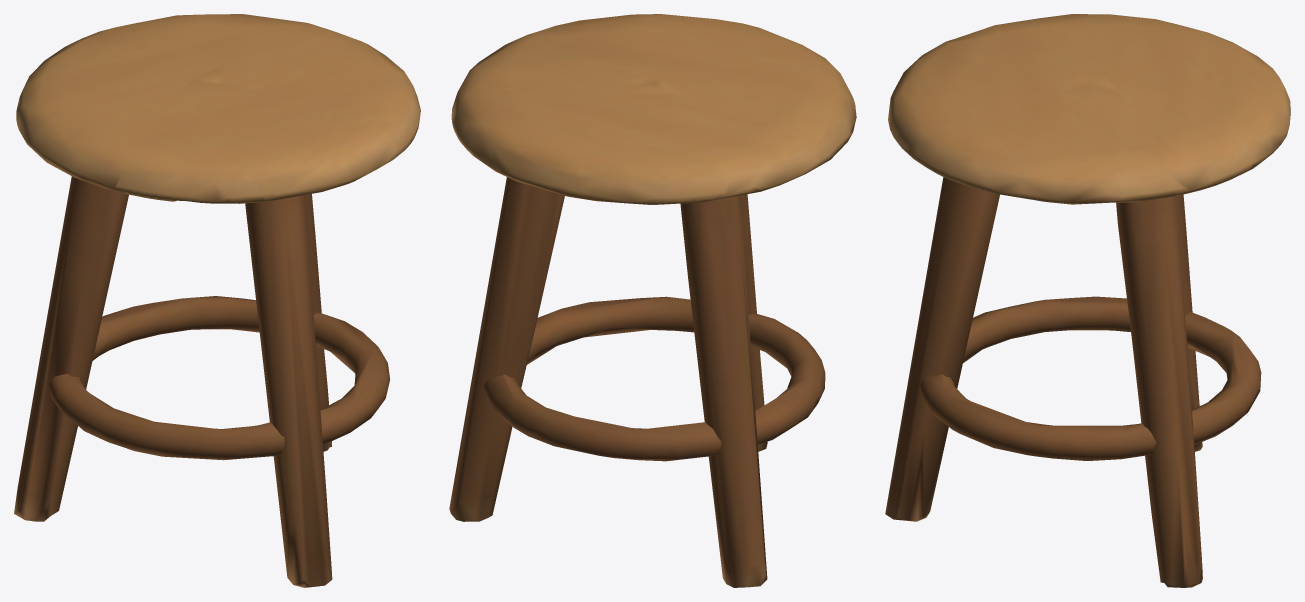
Rendered from stool.glb.
The picture shows the model from 3 angles, left to right: view 1: azimuth 30°, elevation 25°; view 2: azimuth 150°, elevation 25°; view 3: azimuth 270°, elevation 25°; orthographic projection.
Parts seen in each view (by area): view 1: seat; view 2: seat; view 3: seat.
Boxes of the visible parts, x1,y1,x2,y2 form: seat: (14, 14, 420, 587); seat: (449, 14, 856, 587); seat: (885, 14, 1290, 587).
Size of the model in its own units: 0.3795 by 0.4491 by 0.3809.
1 material, 1 textured.
